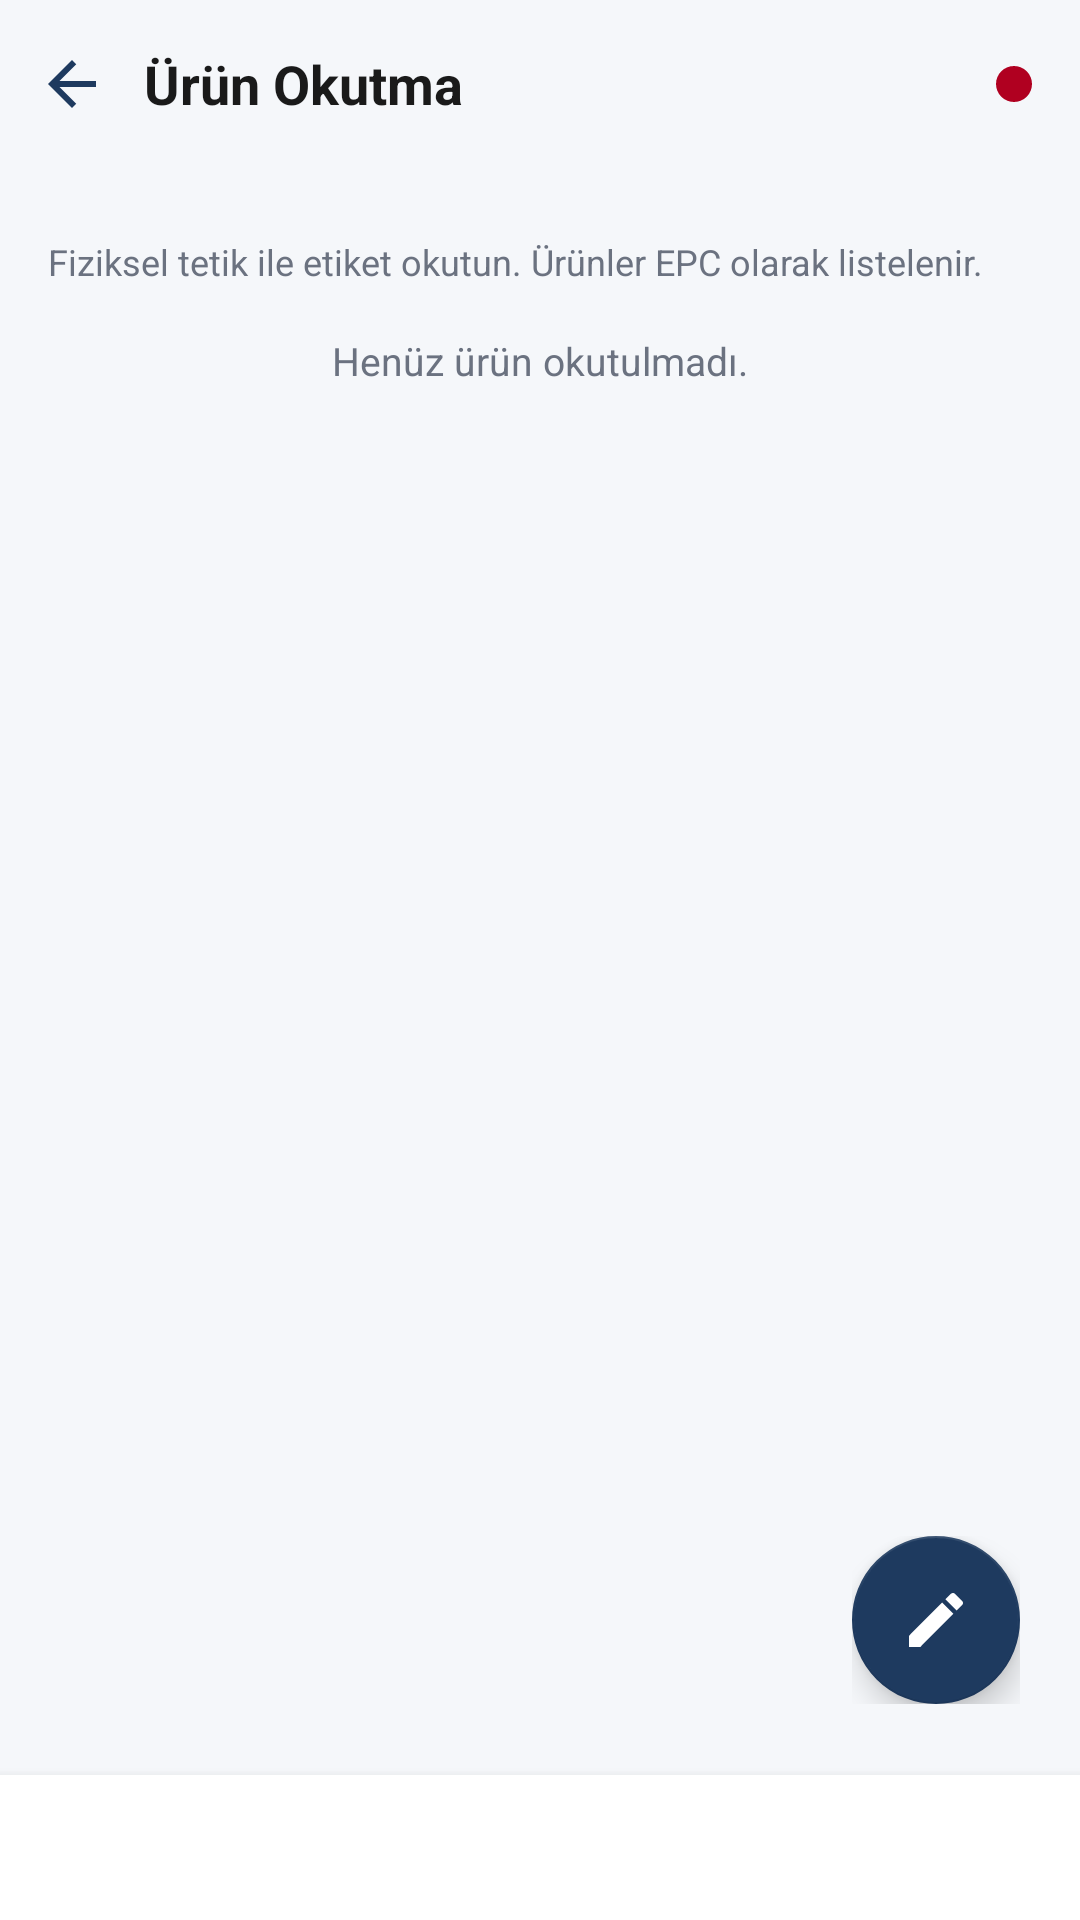

Named icons in this screenshot (1080x1920) and their centers, (x=x, y=y):
Geri: (x=72, y=84)
